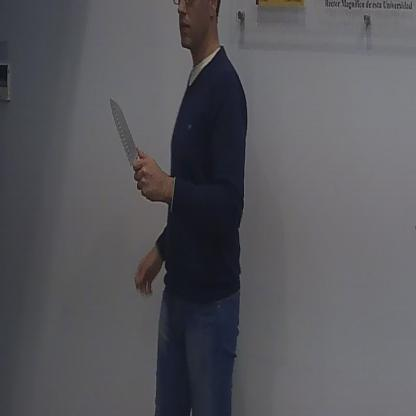knife: (107, 92, 151, 198)
